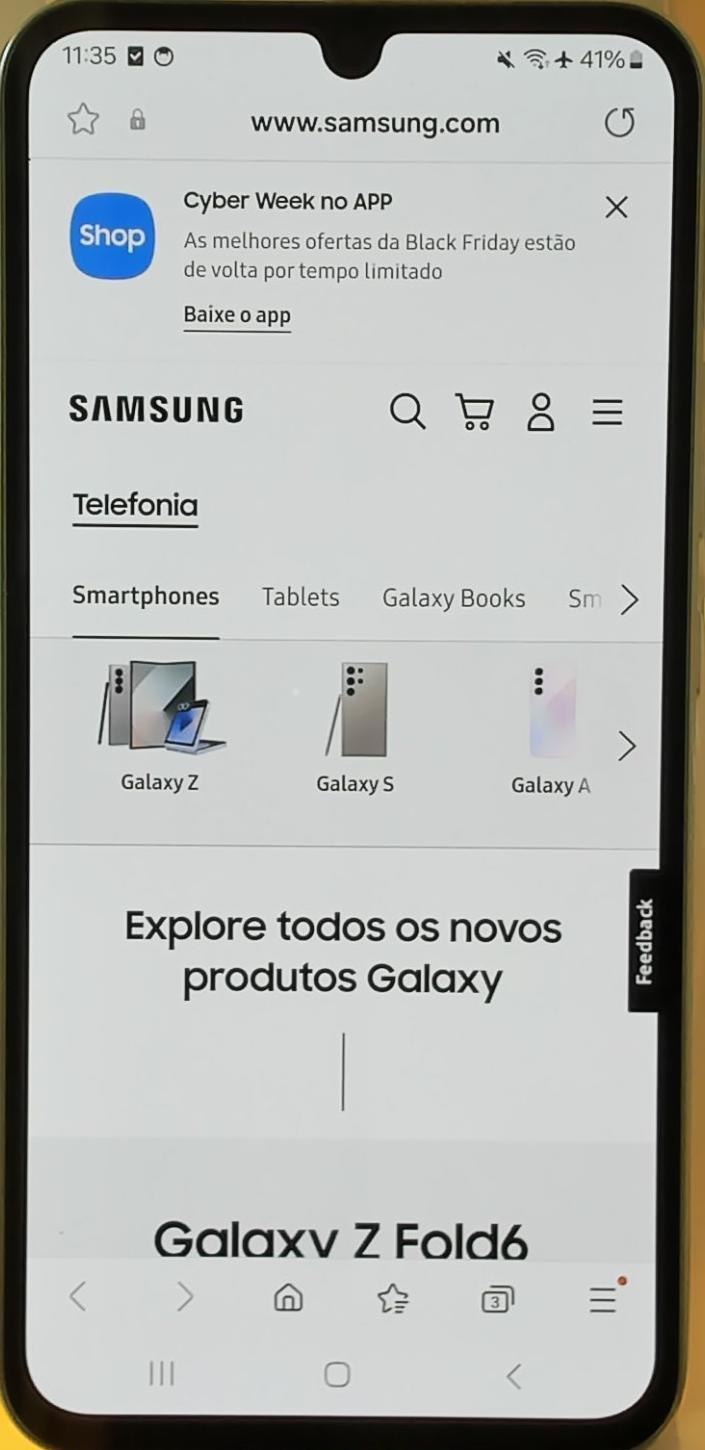CommunBotton: (56, 574, 230, 618), (376, 572, 536, 618), (256, 570, 346, 622), (446, 374, 502, 442), (376, 380, 434, 444), (304, 1352, 372, 1398), (154, 1268, 206, 1320), (526, 384, 568, 444), (262, 1272, 314, 1320), (478, 1272, 524, 1326), (56, 1262, 94, 1322), (372, 1266, 414, 1320), (138, 1350, 186, 1392), (598, 102, 640, 148), (490, 1354, 534, 1396)
menu: (570, 1262, 638, 1334), (585, 388, 635, 442)
